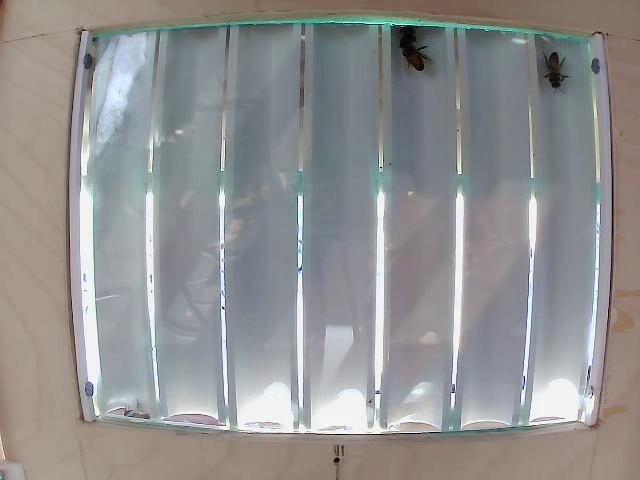bee: (397, 27, 424, 73), (543, 44, 562, 90)
